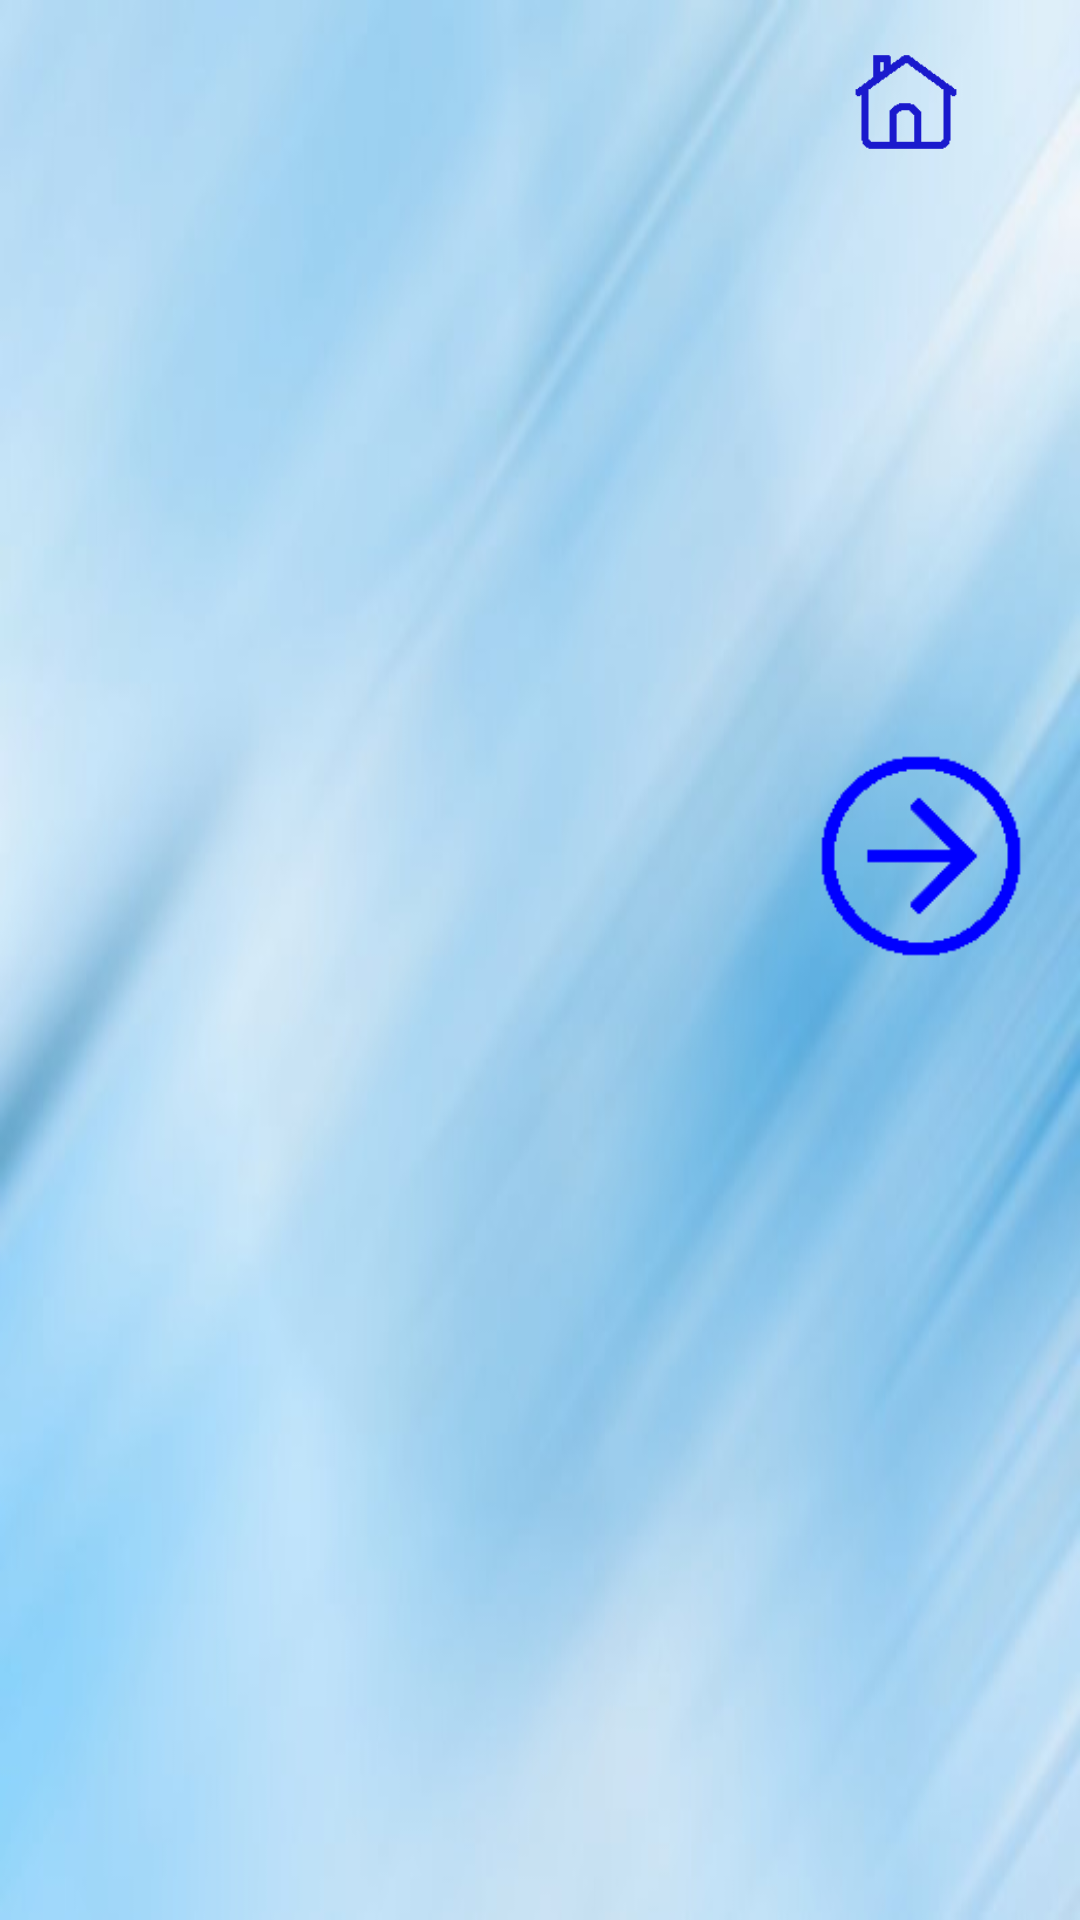

Point at icon controls on the screen. Image size 1080px×1920px, points as point (x, y).
arrow: point (921, 856)
homepress: point (894, 102)
